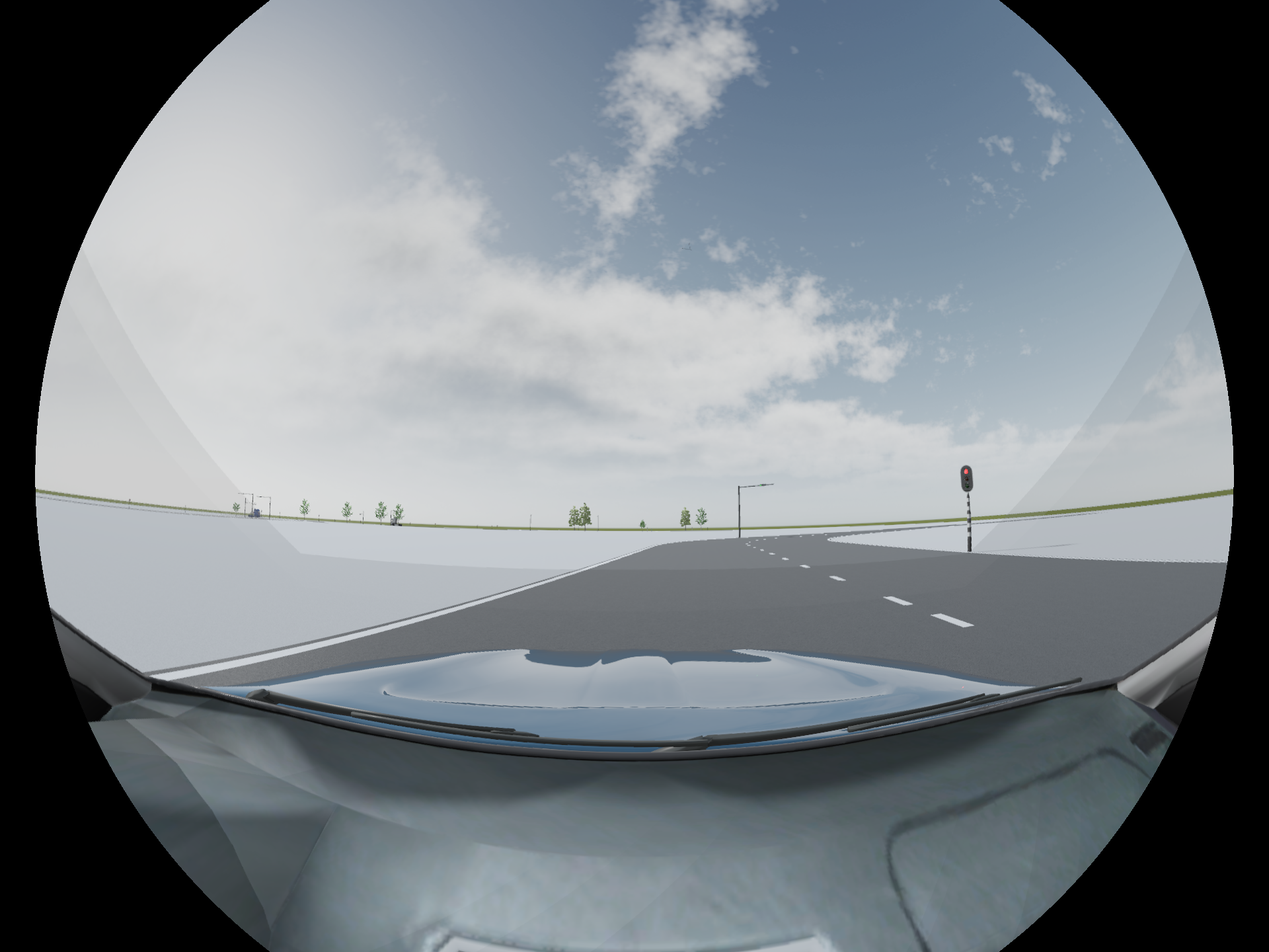Red Light: (961, 464, 972, 492)
